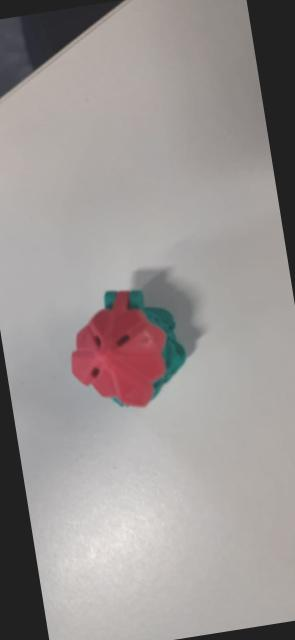House: (57, 277, 201, 418)
